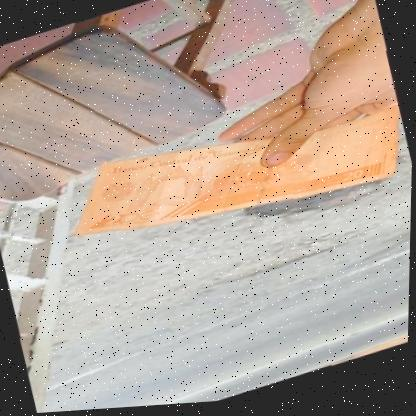twenty-front-vef: (59, 74, 414, 276)
